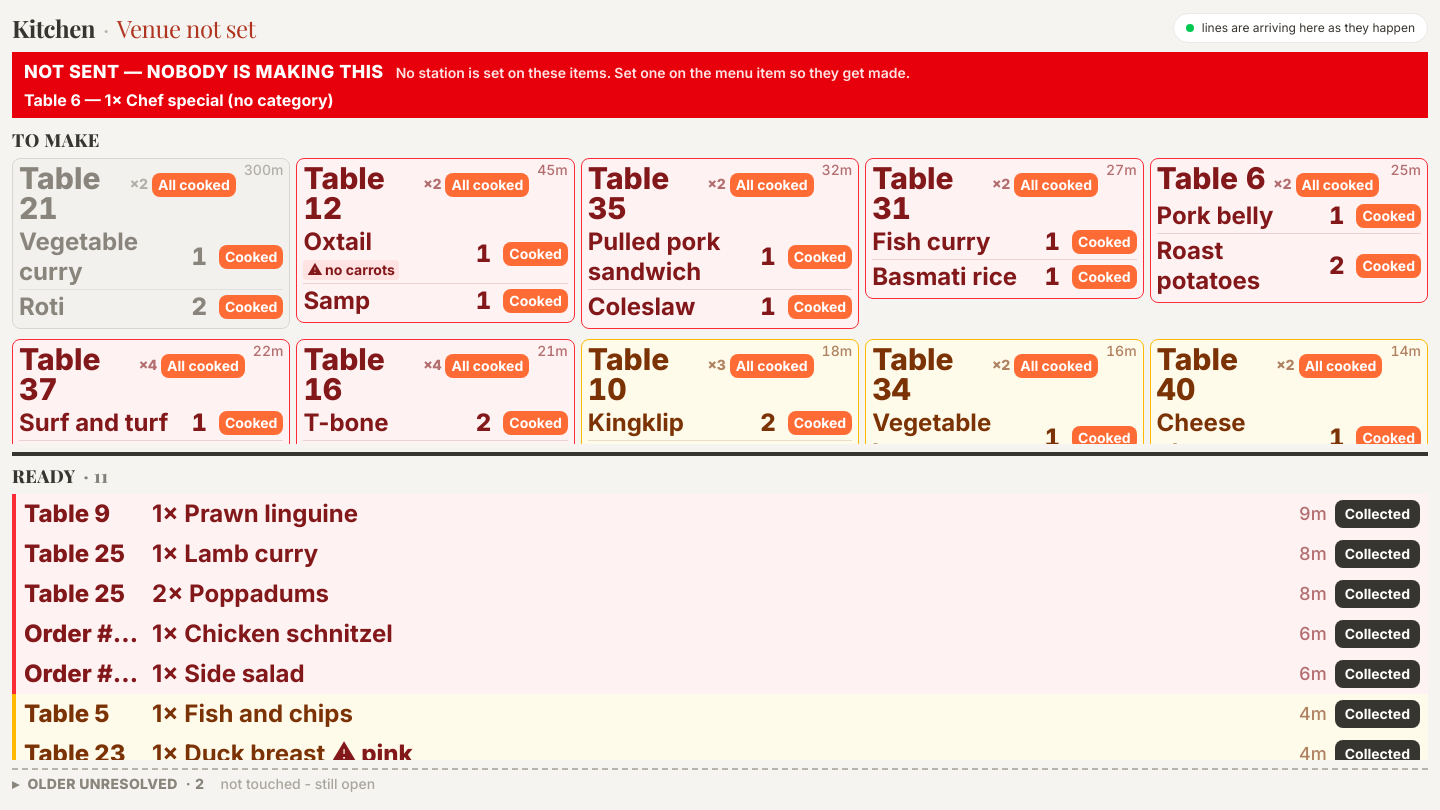
Test case: KitchenScreen — per line is the default, per table is a small shortcut over it › says so, on the card and on the rows, when only some of what was tapped moved
Click the button "All cooked" in the row of "Table 16" at (487, 366), box [446,354,529,378]
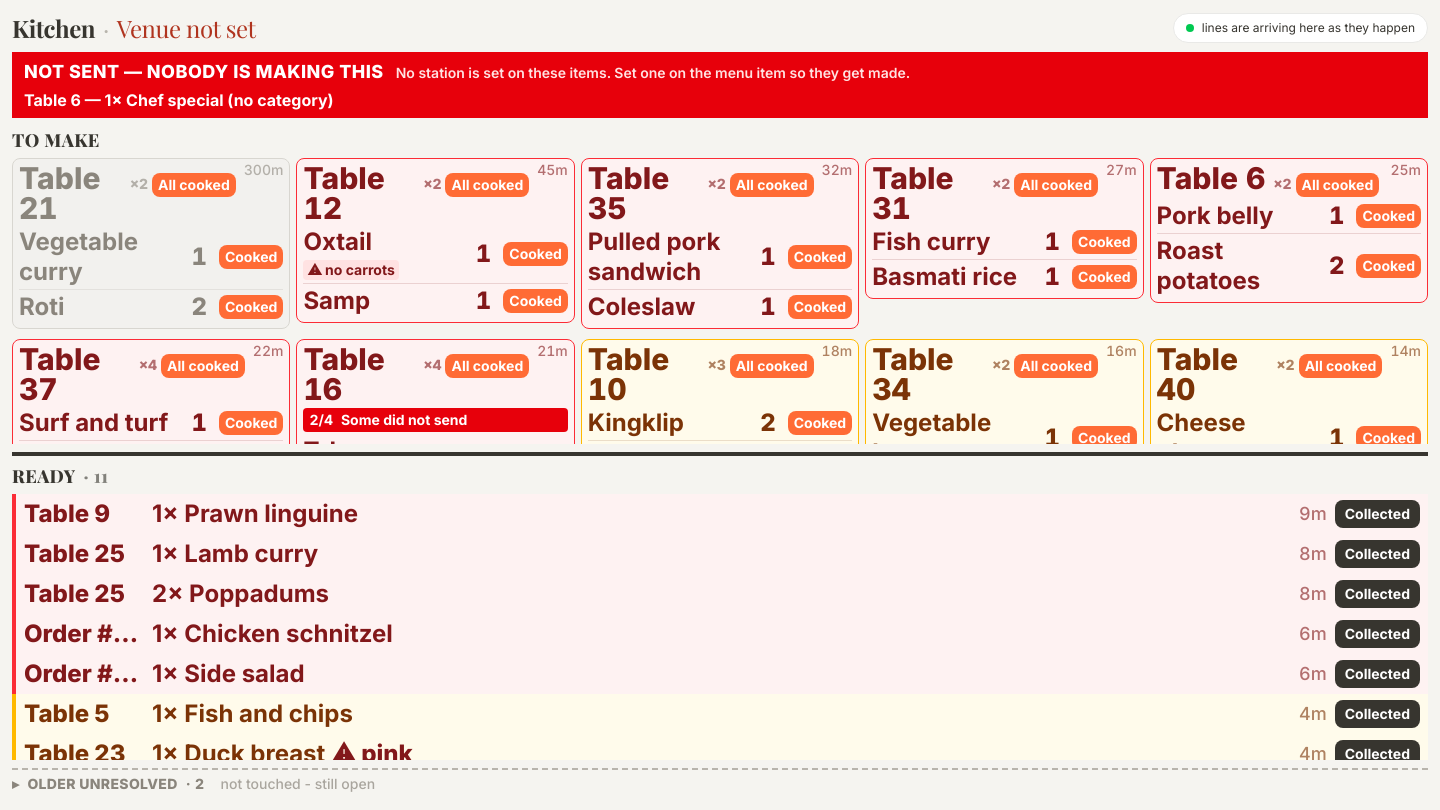
Expected: the element with test id "card-bump-failure" is shown, [303,408,568,432]
Expected: the text with test id "card-bump-failure-count" reads "2/4", [309,410,333,430]
